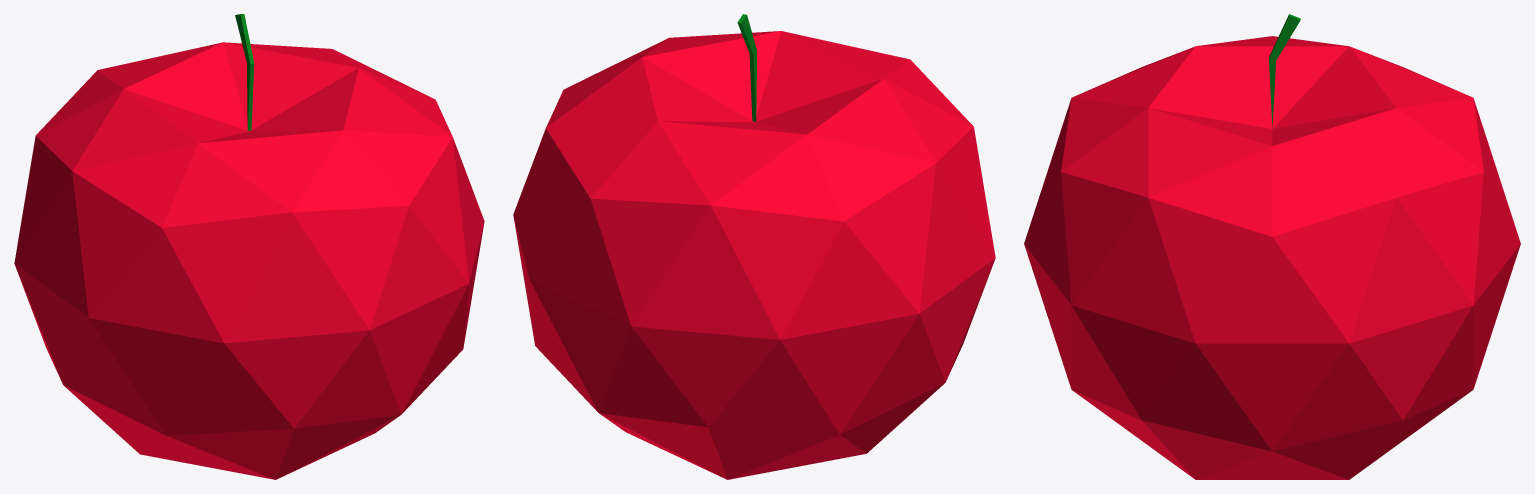
The model's file is Apple.fbx.
3 views of the same model, side by side, from view 1: azimuth 30°, elevation 25°; view 2: azimuth 150°, elevation 25°; view 3: azimuth 270°, elevation 25° (orthographic). The views are drawn at different scales.
Parts seen in each view (by area): view 1: Apple; view 2: Apple; view 3: Apple.
Part boxes in pixels (left/top/right/bottom): Apple: left=14, top=14, right=484, bottom=479; Apple: left=513, top=14, right=995, bottom=479; Apple: left=1024, top=14, right=1520, bottom=479.
Bounding box in the file's own units: 190 × 202 × 200.
